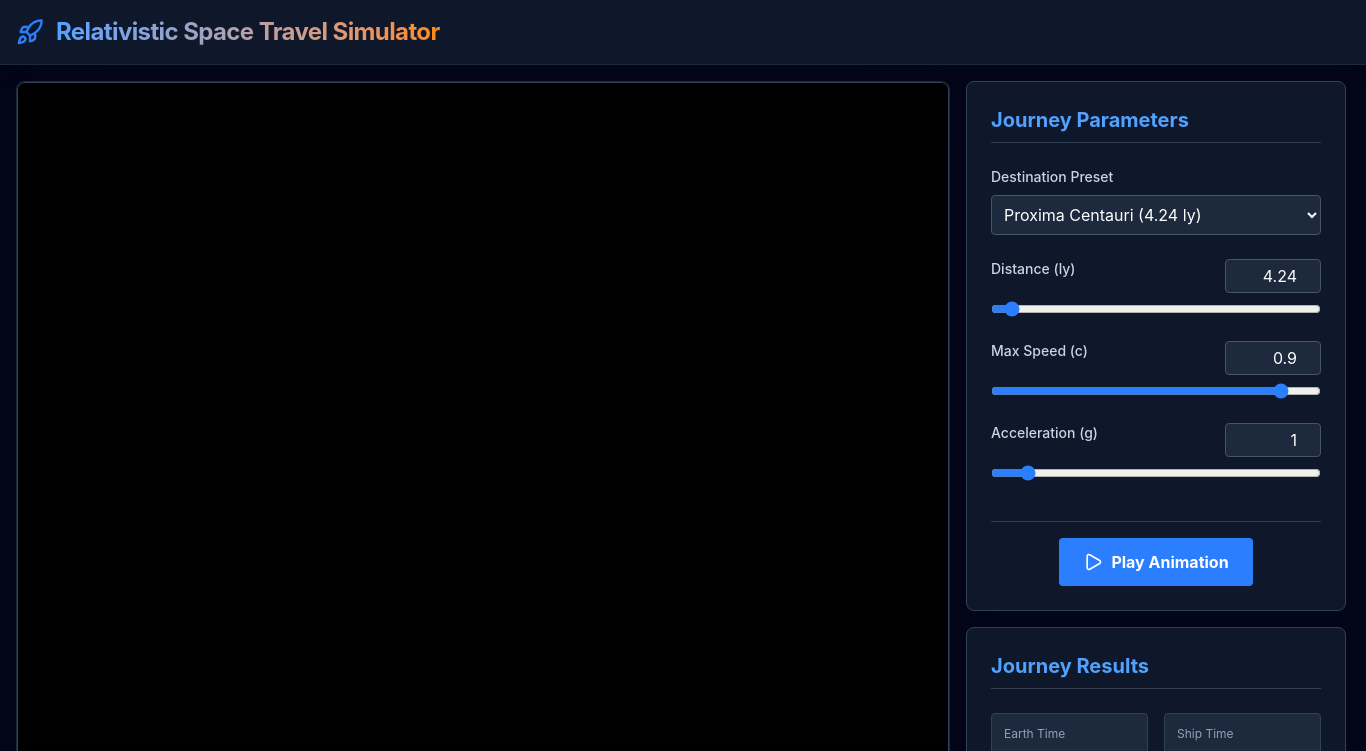
Scenario: App Integration › renders the app and calculates results correctly
Expected: the heading "Relativistic Space Travel Simulator" is shown, [56,16,440,48]
Expected: the number field showing "4.24" next to "Distance (ly)" is shown, [1225,259,1321,293]
Let's change the preset and see if it updates distance
Select "Sirius (8.6 ly)" in the dropdown at coordinates (1156, 215), box [991,195,1321,235]
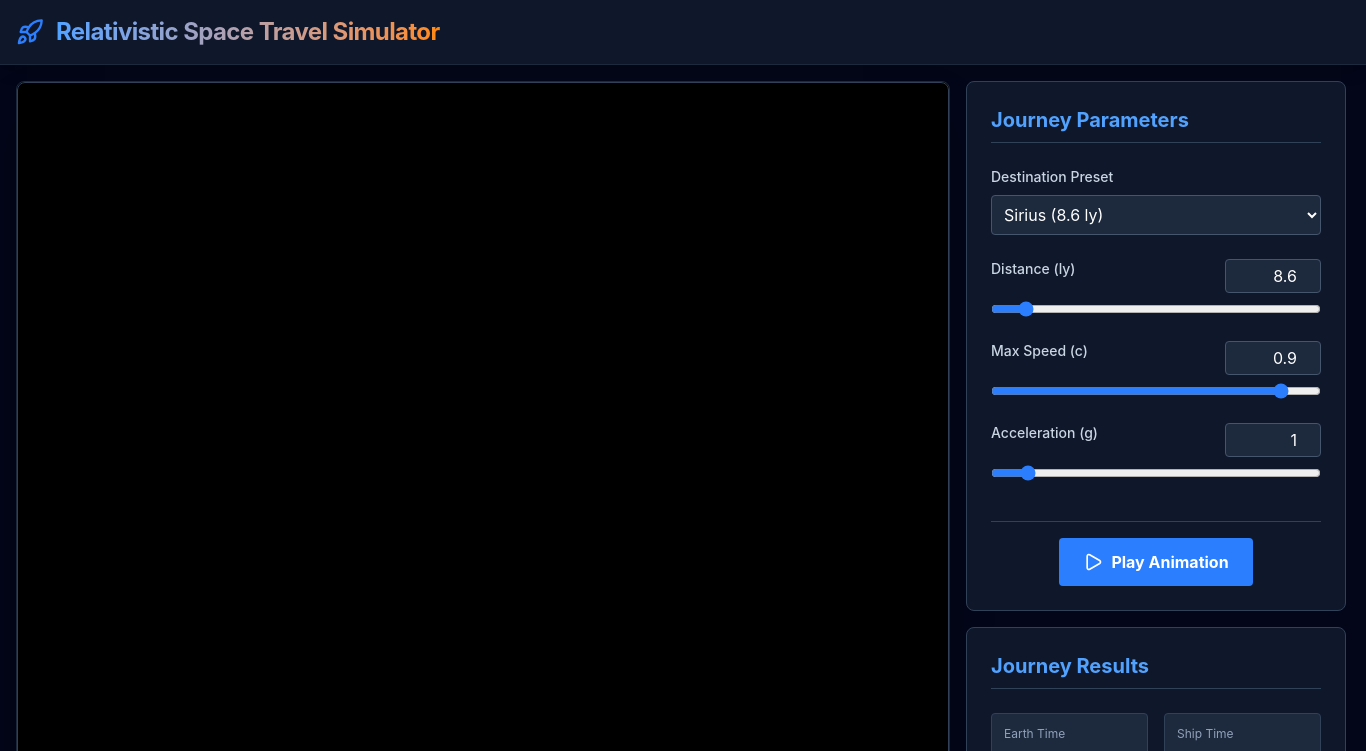
Click it and verify it changes to Stop Animation
Click the button "Play Animation" at coordinates (1156, 562), box [1059,538,1253,586]
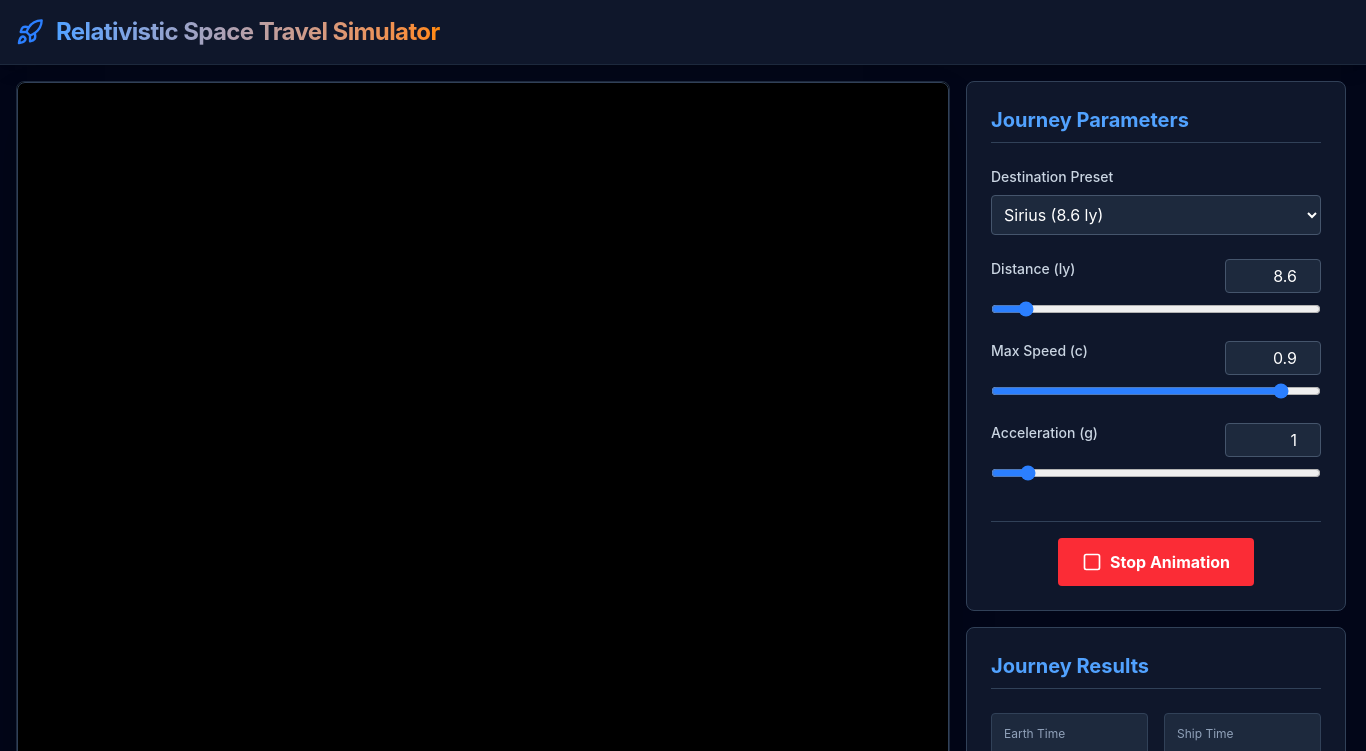
Expected: the button "Stop Animation" is shown, [1058,538,1254,586]
